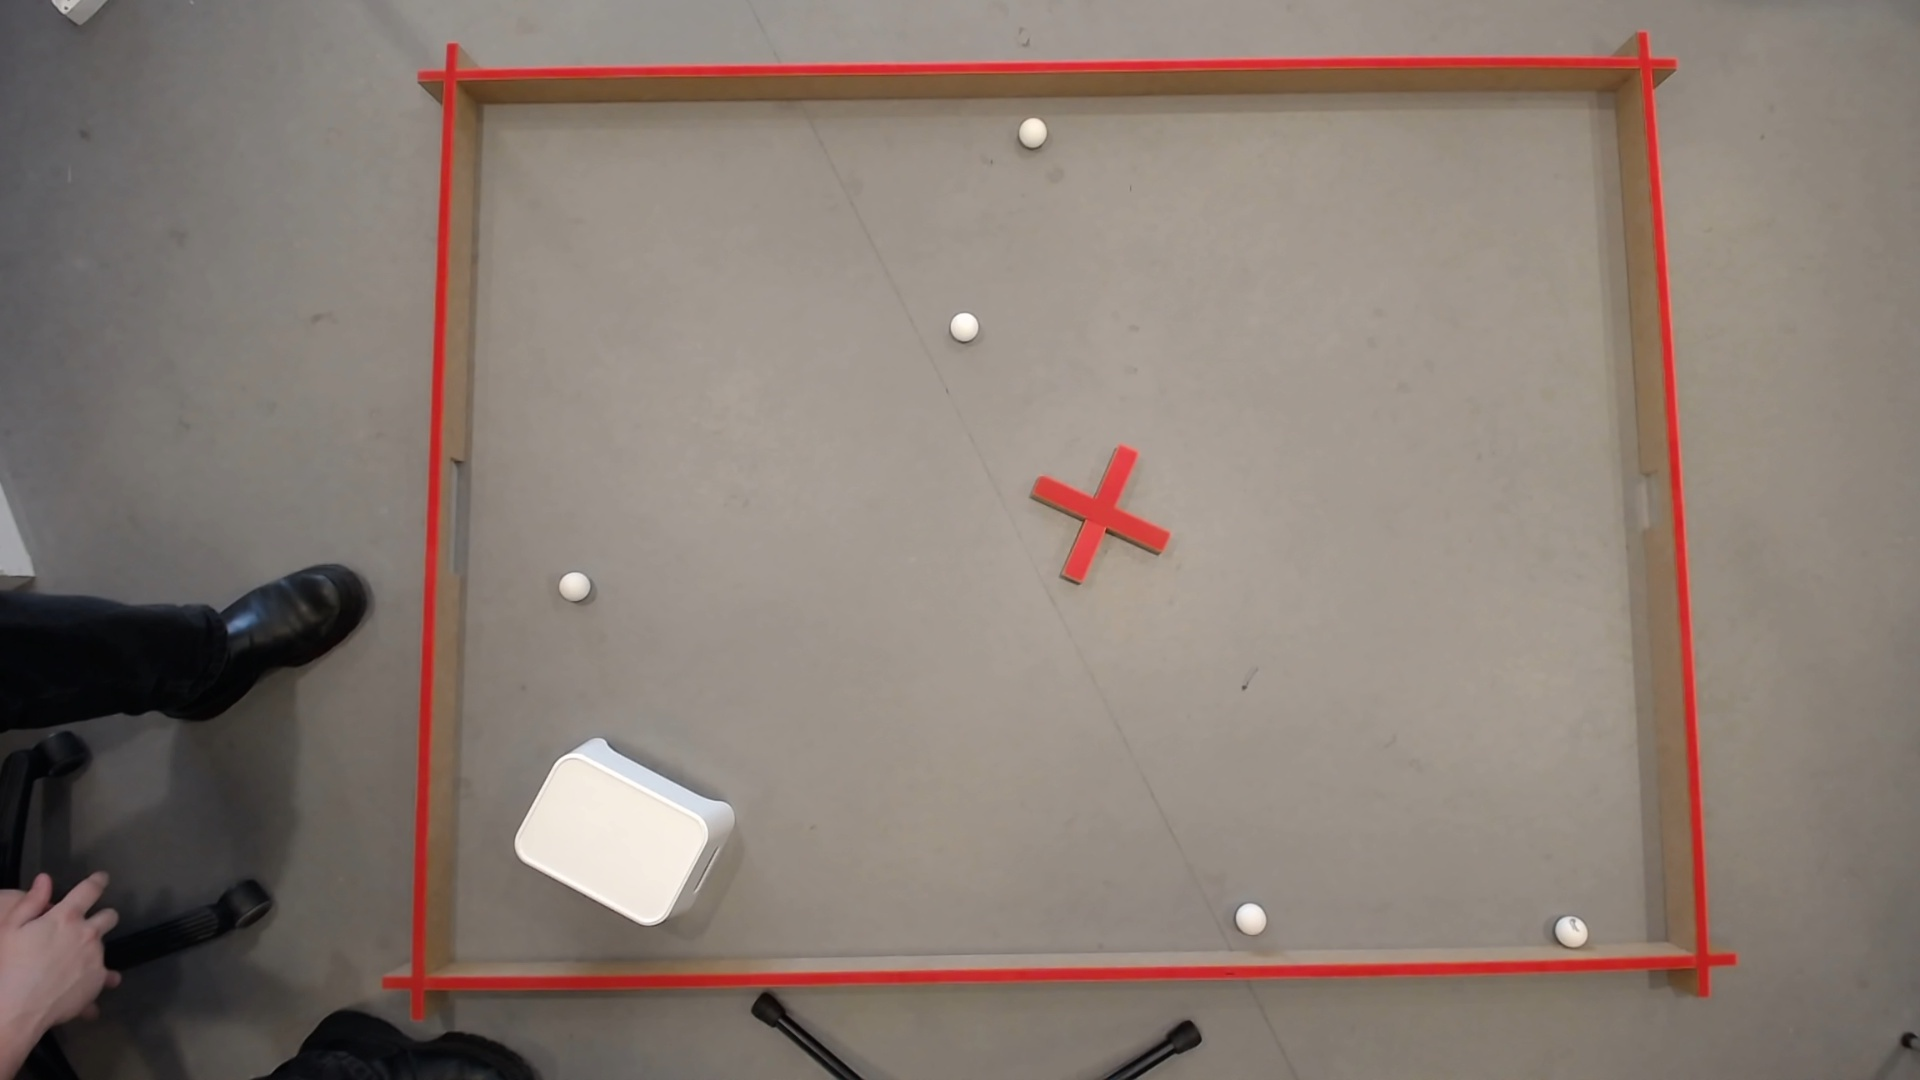balls: (505, 721, 731, 935), (1551, 909, 1593, 951), (1232, 898, 1271, 938), (1014, 112, 1050, 148), (949, 313, 977, 338)
car: (556, 566, 591, 600)
